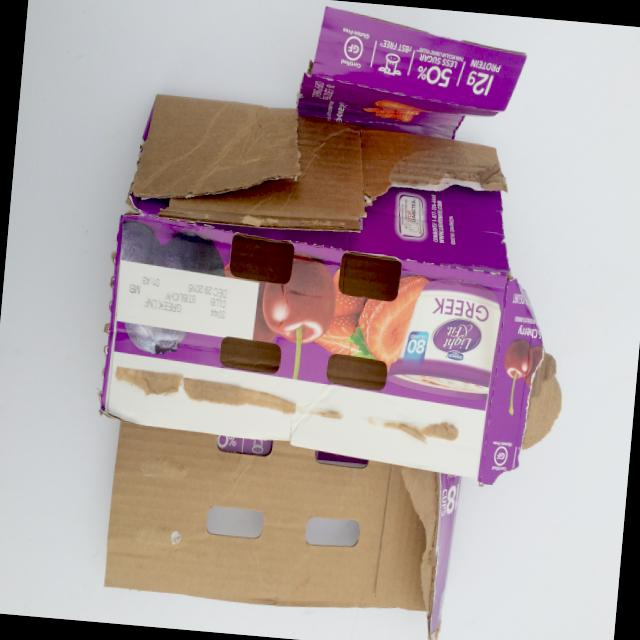Cardboard: (56, 0, 605, 640)
